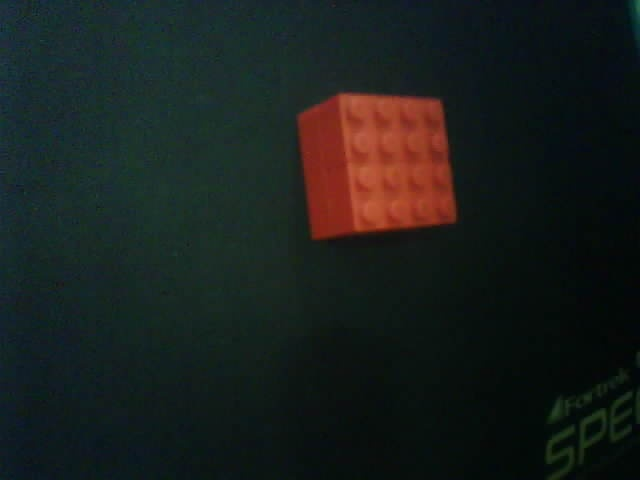lego: (295, 91, 457, 242)
